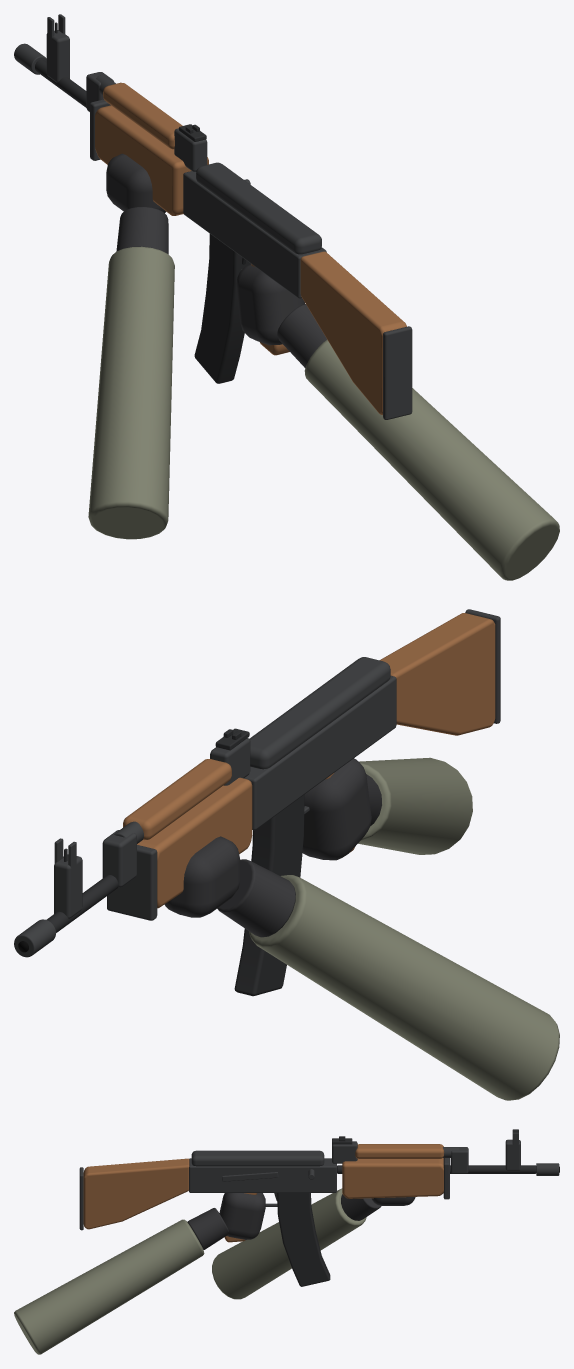
File: wolf.glb
3 views of the same model, one above another, from view 1: azimuth 30°, elevation 25°; view 2: azimuth 150°, elevation 25°; view 3: azimuth 270°, elevation 25° (orthographic). The views are drawn at different scales.
Parts seen in each view (by area): view 1: SleeveL, SleeveR, Stock, Receiver, MagBody, LowerGuard, DustCover, HandR, ButtPlate, UpperGuard, HandL, WristL (+4 smaller); view 2: SleeveL, Stock, SleeveR, Receiver, LowerGuard, DustCover, HandR, MagBody, HandL, WristL, UpperGuard, GuardBand (+6 smaller); view 3: SleeveR, Stock, SleeveL, LowerGuard, Receiver, MagBody, DustCover, HandR, UpperGuard, WristR, WristL, Barrel (+7 smaller).
Part boxes in pixels (<box>): SleeveL: <box>88,246,174,539</box>; SleeveR: <box>304,339,559,580</box>; Stock: <box>300,251,406,414</box>; Receiver: <box>183,171,326,298</box>; MagBody: <box>194,234,250,383</box>; LowerGuard: <box>95,105,208,215</box>; DustCover: <box>196,162,321,254</box>; HandR: <box>236,264,304,345</box>; ButtPlate: <box>383,326,412,419</box>; UpperGuard: <box>103,82,182,149</box>; HandL: <box>106,153,166,212</box>; WristL: <box>116,207,168,254</box>; SleeveL: <box>249,875,559,1100</box>; Stock: <box>380,613,495,735</box>; SleeveR: <box>358,757,472,854</box>; Receiver: <box>244,675,396,830</box>; LowerGuard: <box>137,777,252,908</box>; DustCover: <box>249,657,390,769</box>; HandR: <box>302,758,371,860</box>; MagBody: <box>234,794,304,996</box>; HandL: <box>164,836,240,917</box>; WristL: <box>217,859,295,937</box>; UpperGuard: <box>123,759,231,840</box>; GuardBand: <box>107,845,157,920</box>; SleeveR: <box>14,1219,204,1354</box>; Stock: <box>83,1158,189,1229</box>; SleeveL: <box>212,1188,366,1299</box>; LowerGuard: <box>342,1158,443,1198</box>; Receiver: <box>189,1158,336,1192</box>; MagBody: <box>277,1193,330,1286</box>; DustCover: <box>191,1150,324,1166</box>; HandR: <box>219,1193,265,1239</box>; UpperGuard: <box>355,1144,444,1158</box>; WristR: <box>187,1208,228,1249</box>; WristL: <box>341,1194,381,1220</box>; Barrel: <box>337,1165,536,1173</box>.
Bounding box in the file's own units: 0.4387 × 0.4547 × 1.07.
